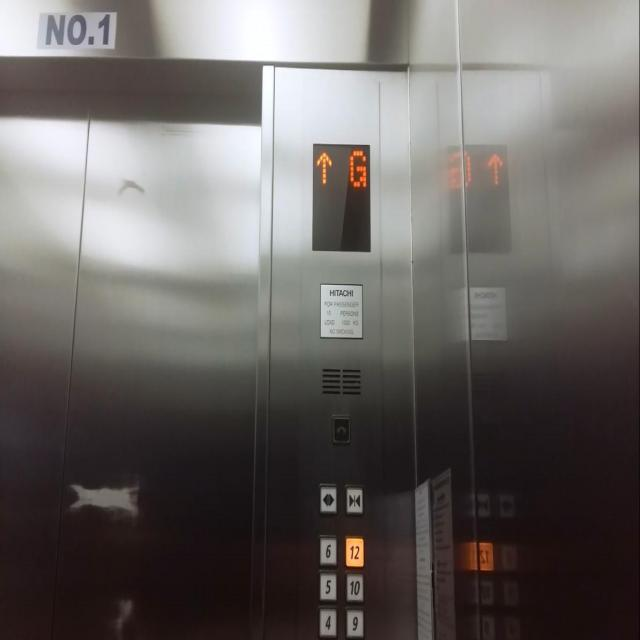10: (344, 568, 364, 604)
12: (343, 534, 364, 568)
4: (317, 604, 338, 639)
5: (317, 570, 338, 603)
6: (318, 532, 338, 568)
9: (344, 605, 365, 639)
call: (332, 415, 350, 447)
close: (344, 482, 363, 518), (475, 490, 491, 519)
led: (311, 140, 371, 252)
open: (318, 482, 337, 516)
unknown: (477, 541, 494, 571)
